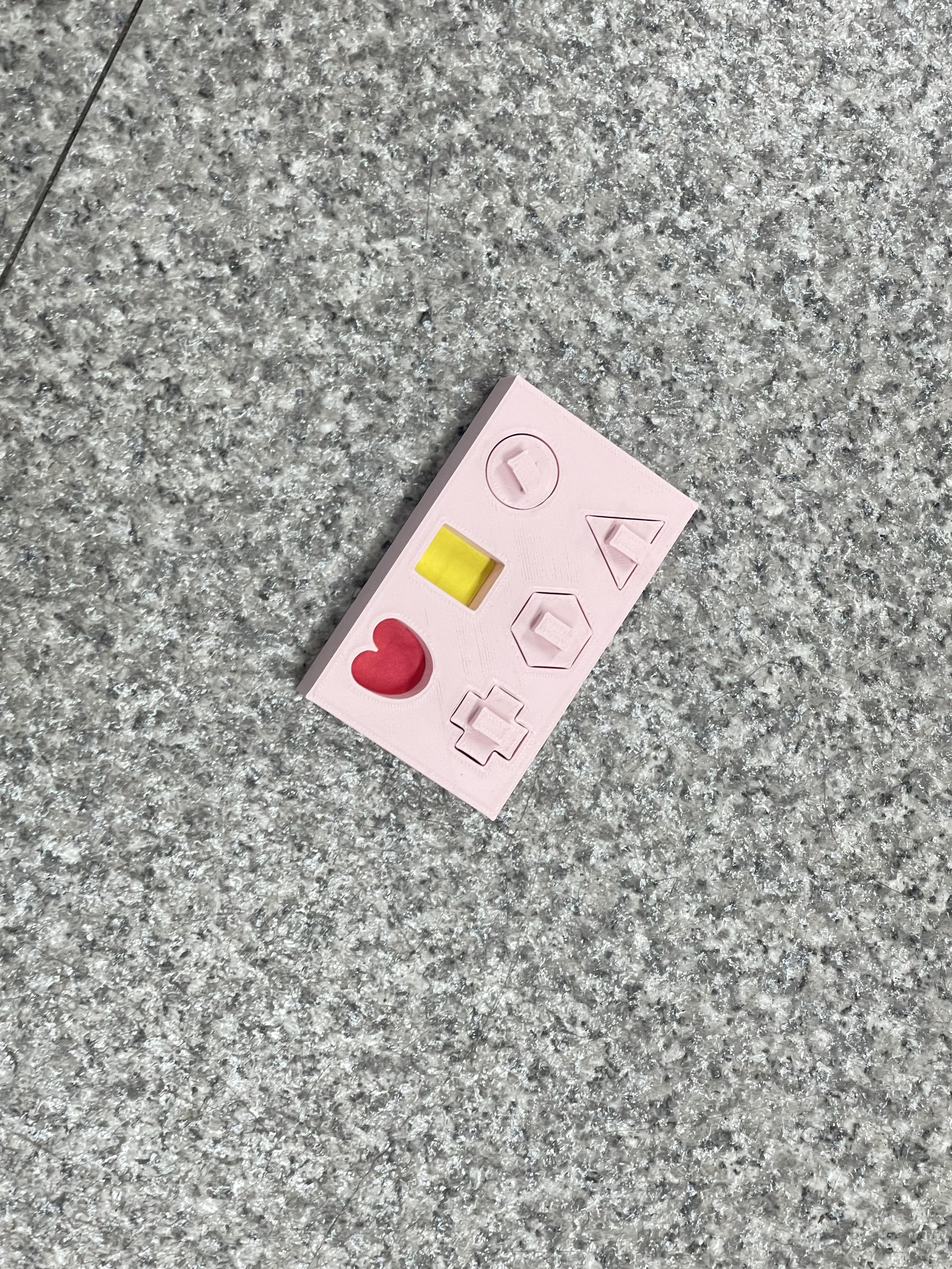unsolved: (283, 359, 705, 835)
